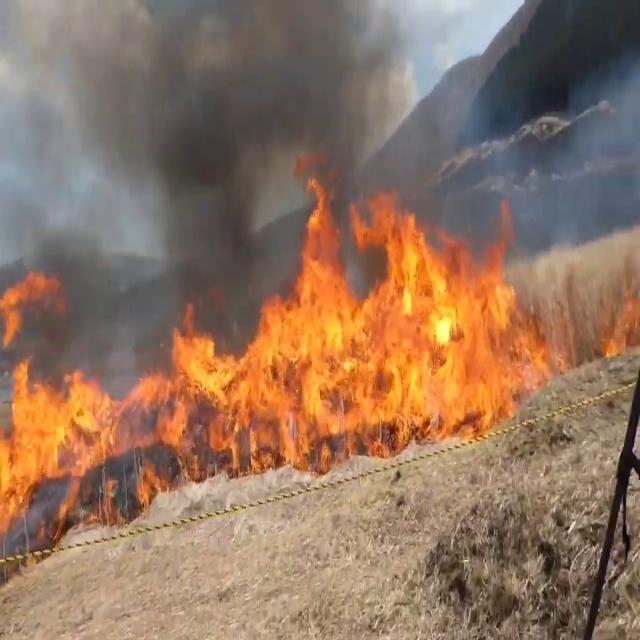Fire: (256, 183, 562, 457), (0, 271, 274, 514), (601, 278, 640, 362)
Smoke: (31, 0, 427, 324), (519, 52, 640, 276)
